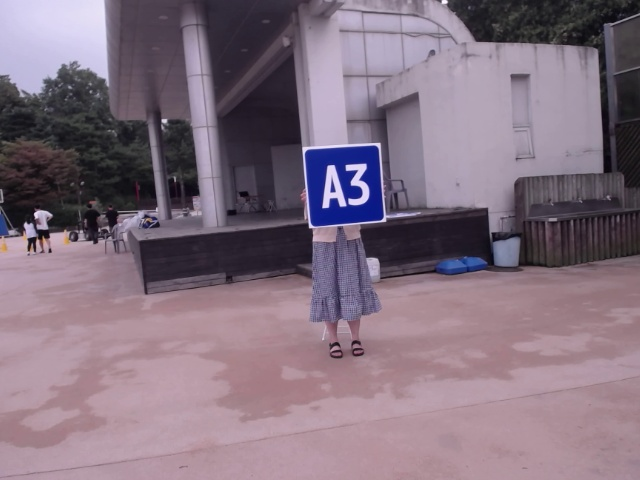delivery_a3: (304, 145, 385, 228)
